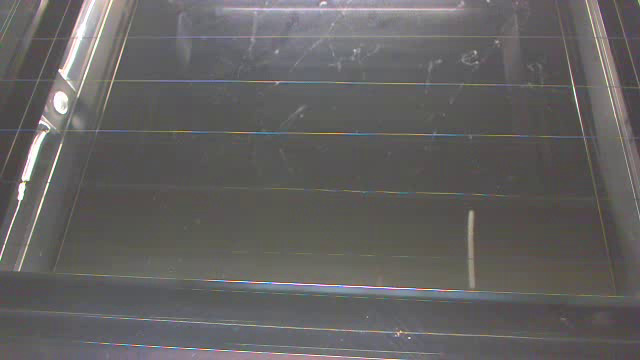alpha: (467, 208, 477, 291)
